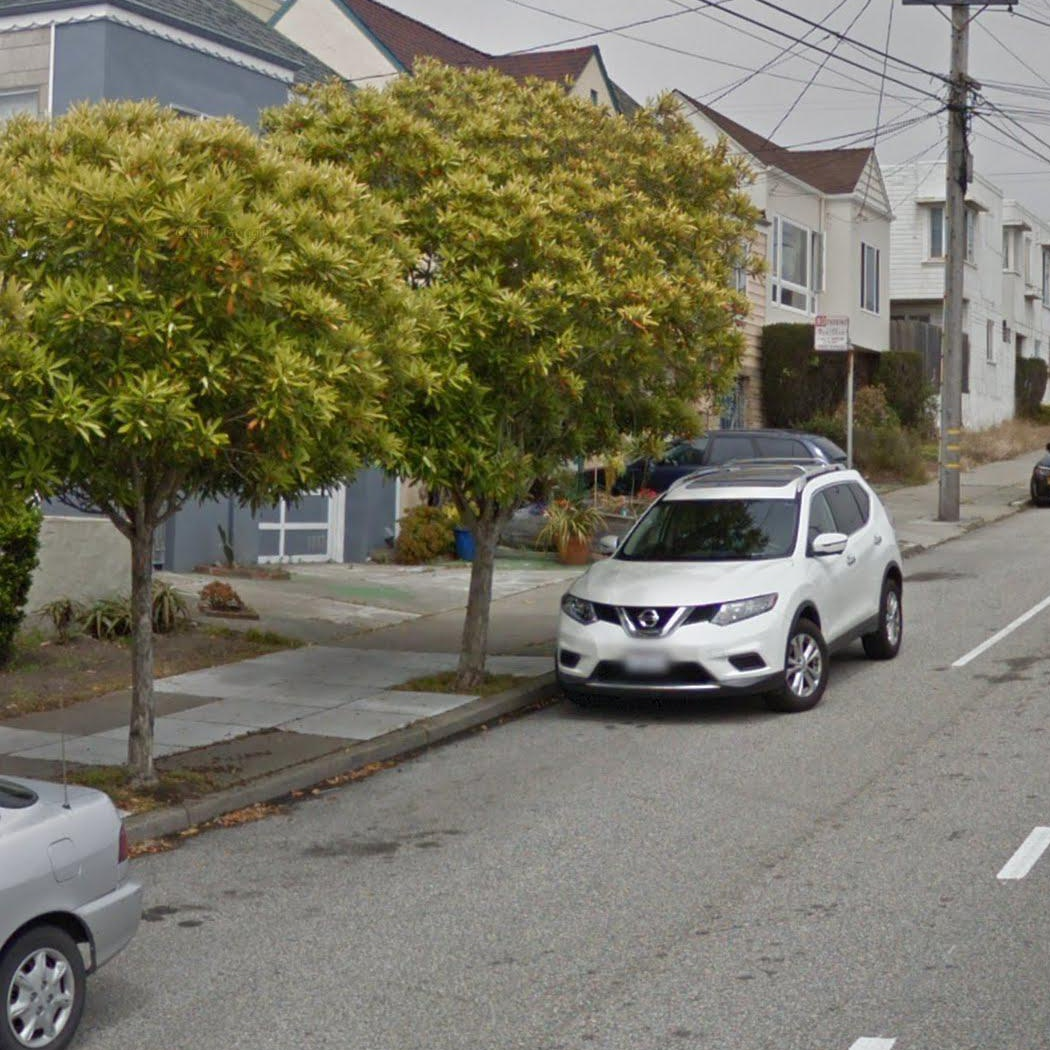No Parking: (814, 314, 850, 352)
